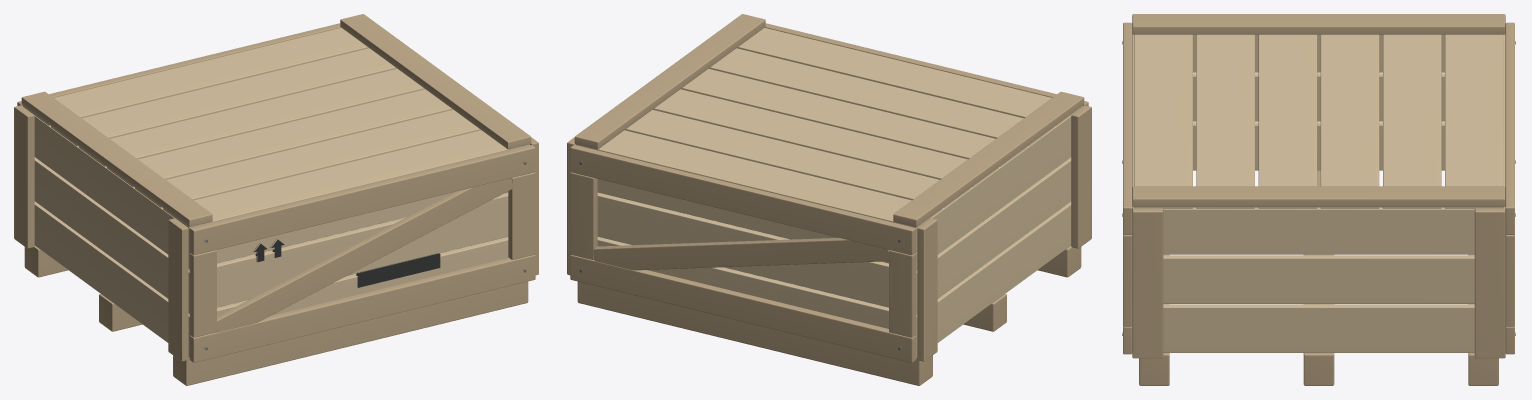
The model's file is industrial.yard.crate_wood_flat.glb.
3 views of the same model, side by side, from view 1: azimuth 30°, elevation 25°; view 2: azimuth 150°, elevation 25°; view 3: azimuth 270°, elevation 25° (orthographic). The views are drawn at different scales.
Parts seen in each view (by area): view 1: main__timber_dca, main__timber_ca8, main__paint_333; view 2: main__timber_dca, main__timber_ca8; view 3: main__timber_dca, main__timber_ca8.
Part boxes in pixels (x1,y1,x2,y2): main__timber_dca: (22, 27, 529, 357); main__timber_ca8: (14, 14, 538, 385); main__paint_333: (253, 239, 440, 287); main__timber_dca: (576, 27, 1083, 357); main__timber_ca8: (567, 14, 1091, 385); main__timber_dca: (1132, 33, 1505, 352); main__timber_ca8: (1123, 14, 1514, 385).
Bounding box in the file's own units: 1.04 × 0.472 × 0.905.
